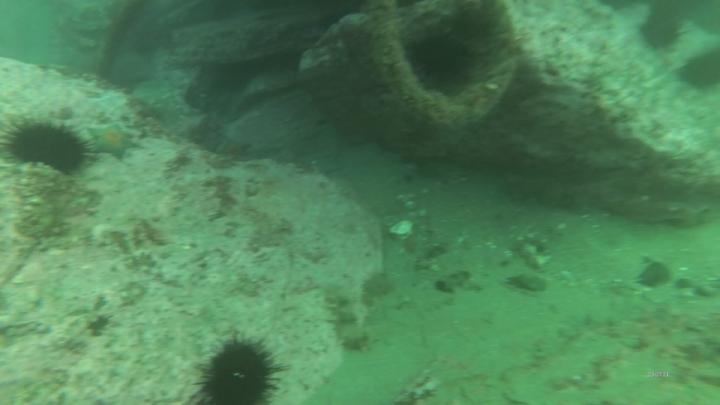echinus: (194, 331, 292, 405), (1, 111, 104, 177), (636, 6, 693, 50), (676, 44, 720, 94)
holothurian: (326, 284, 367, 351)
starfish: (86, 121, 140, 162)
